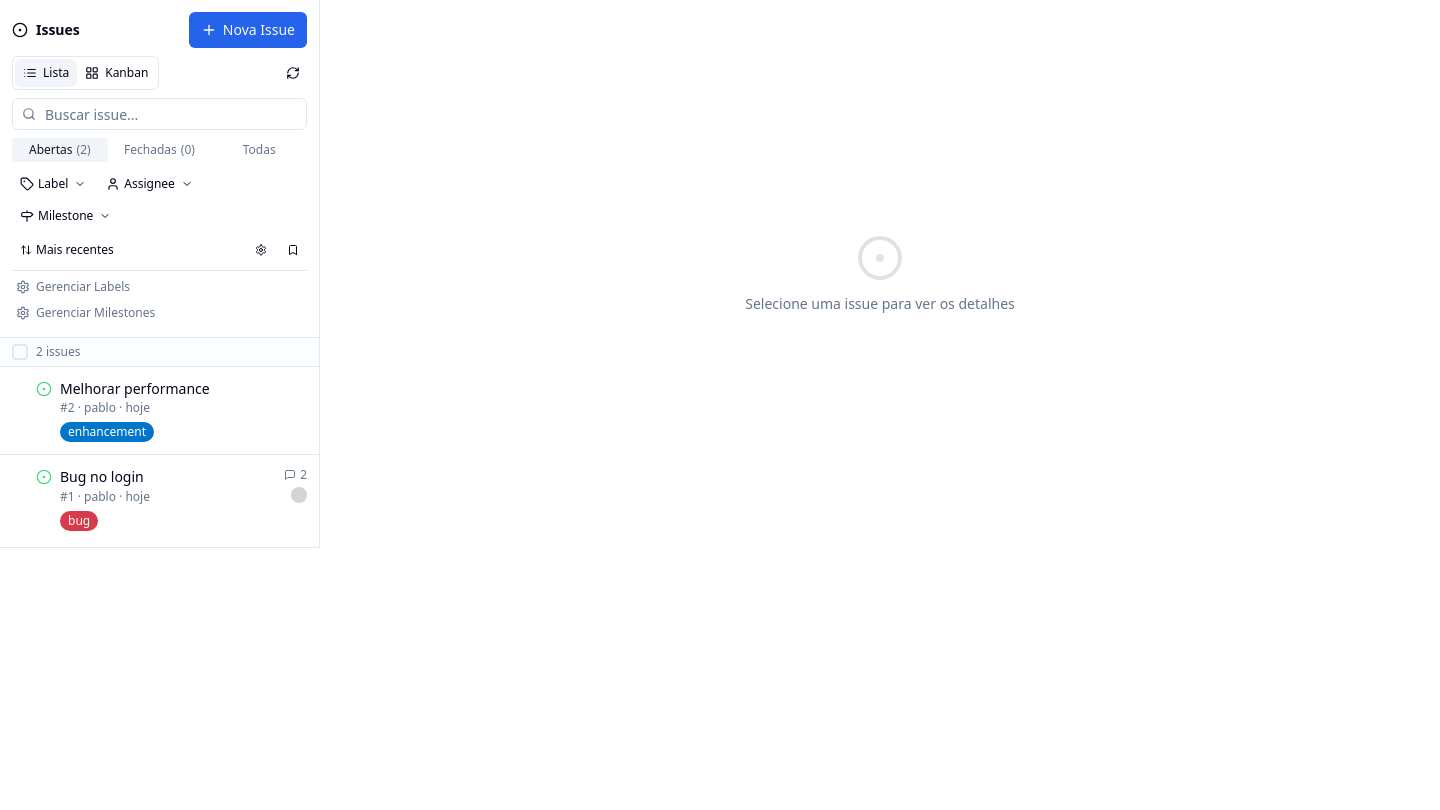
it: IssuesManager › criar issue › clicar em "Nova Issue" abre o dialog
Click the button "Nova Issue": coordinates (248, 30) 189,12 -> 307,48
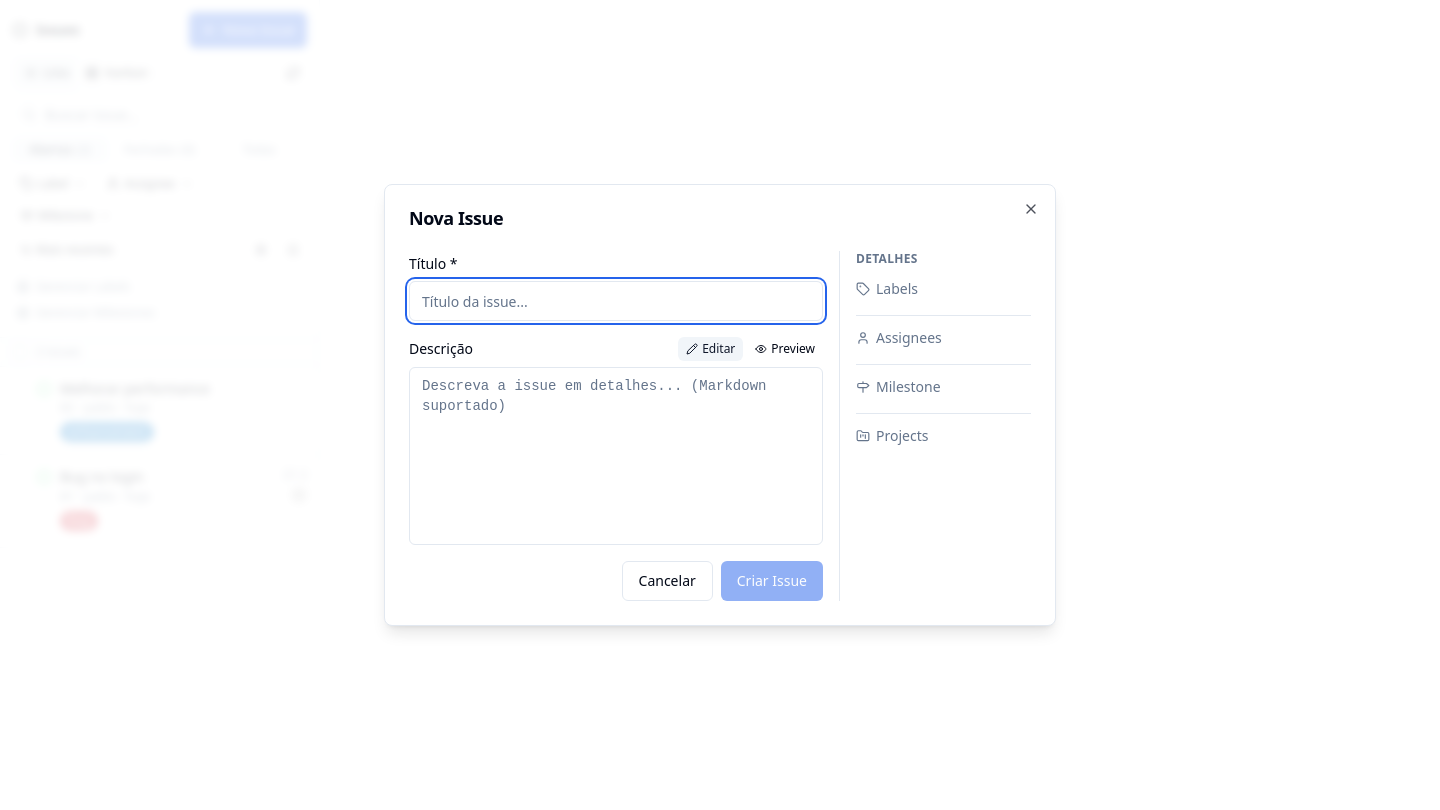
Expected: the heading "Nova Issue" is shown, 409,206 -> 503,230
